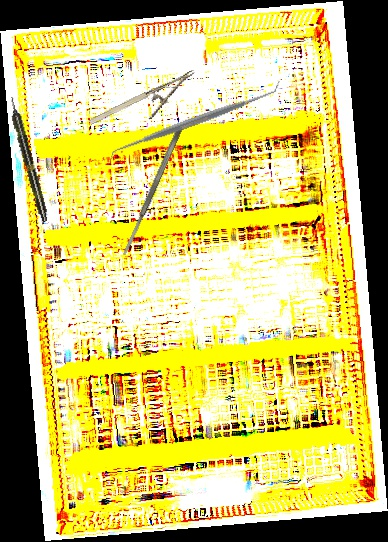Handpiece: (6, 95, 51, 224)
Needle Holder: (87, 69, 205, 143)
Spatula Surgical: (104, 78, 287, 163), (119, 125, 185, 257)
